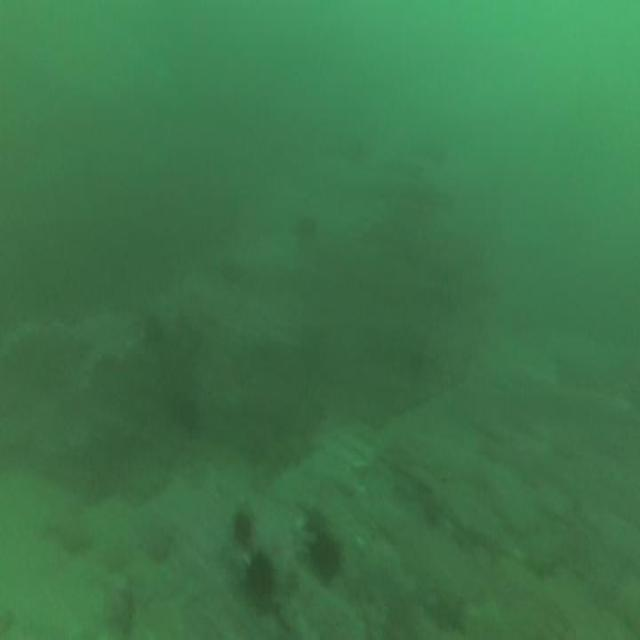echinus: (309, 532, 344, 584), (248, 555, 273, 602), (231, 508, 249, 544)
